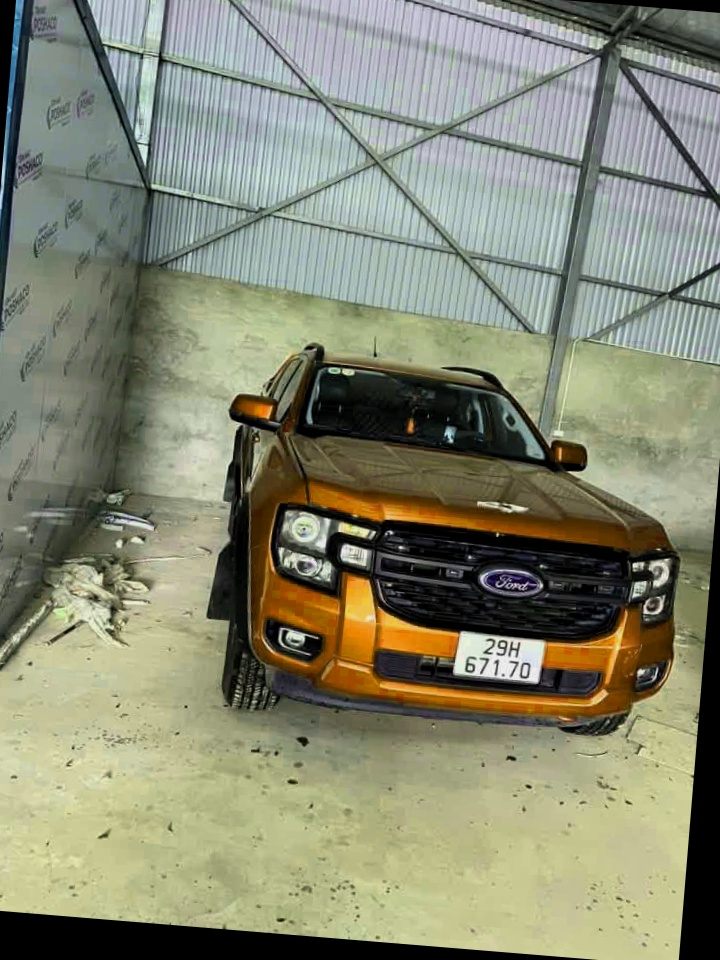Bien-so: (454, 628, 539, 690)
